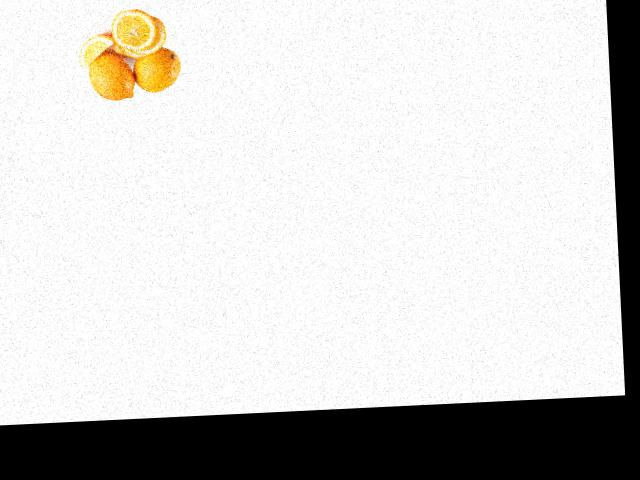lemon: (127, 48, 180, 94)
